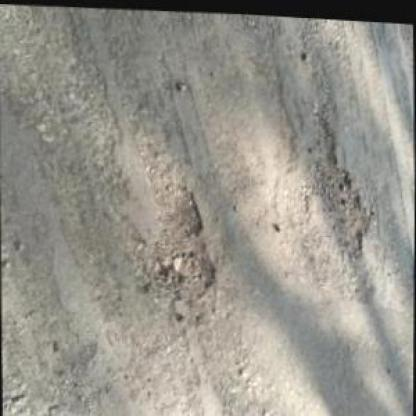pothole: (304, 106, 373, 260), (133, 182, 219, 302)
